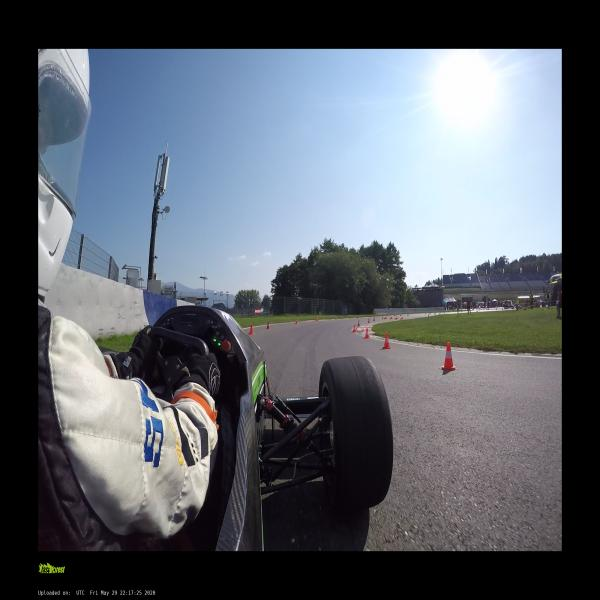orange_cone: (439, 343, 455, 370), (383, 332, 391, 349), (364, 328, 370, 338), (249, 324, 254, 334), (266, 321, 270, 329), (352, 325, 356, 332), (357, 320, 360, 326), (295, 319, 298, 324), (394, 317, 398, 320), (381, 316, 384, 320), (400, 317, 403, 320), (316, 317, 318, 321), (368, 319, 370, 323), (335, 316, 337, 320), (373, 317, 375, 321), (389, 317, 392, 319), (384, 317, 386, 319), (357, 315, 358, 318)
